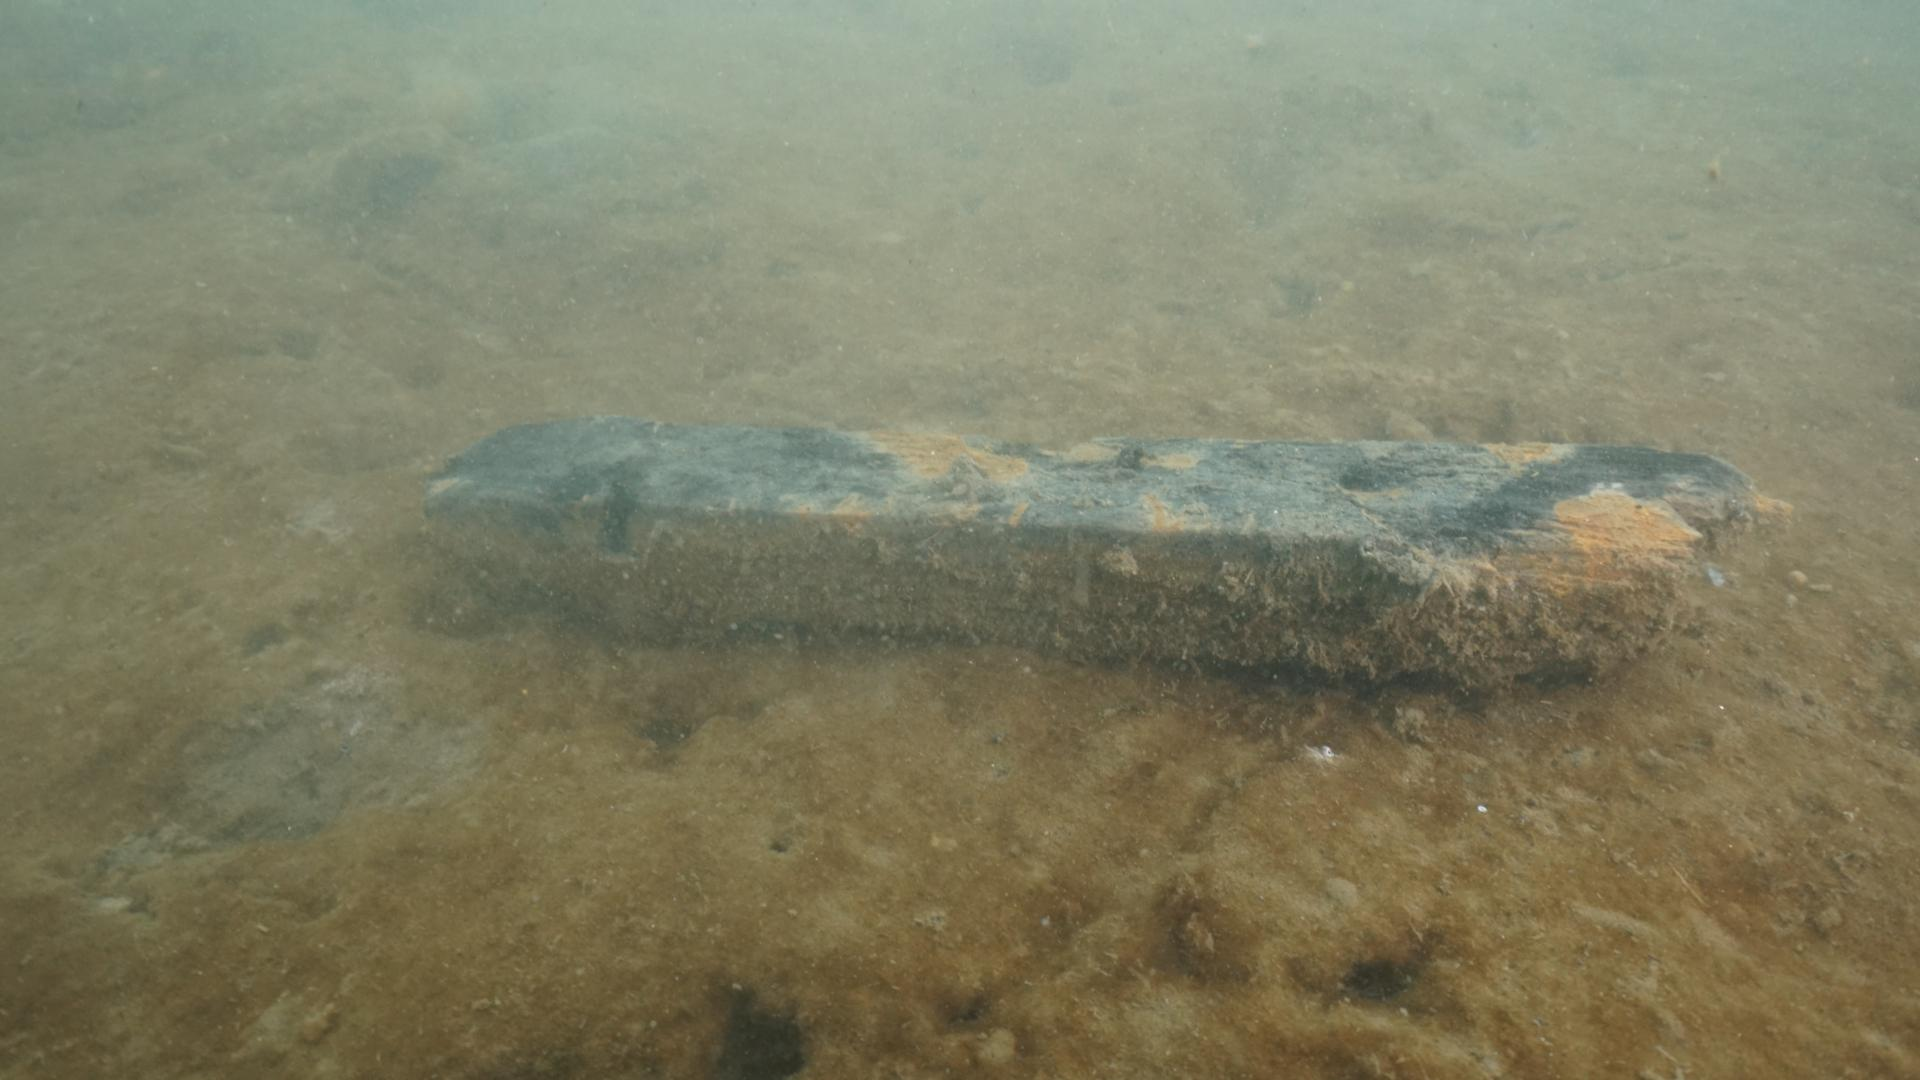wood: (404, 406, 1793, 683)
